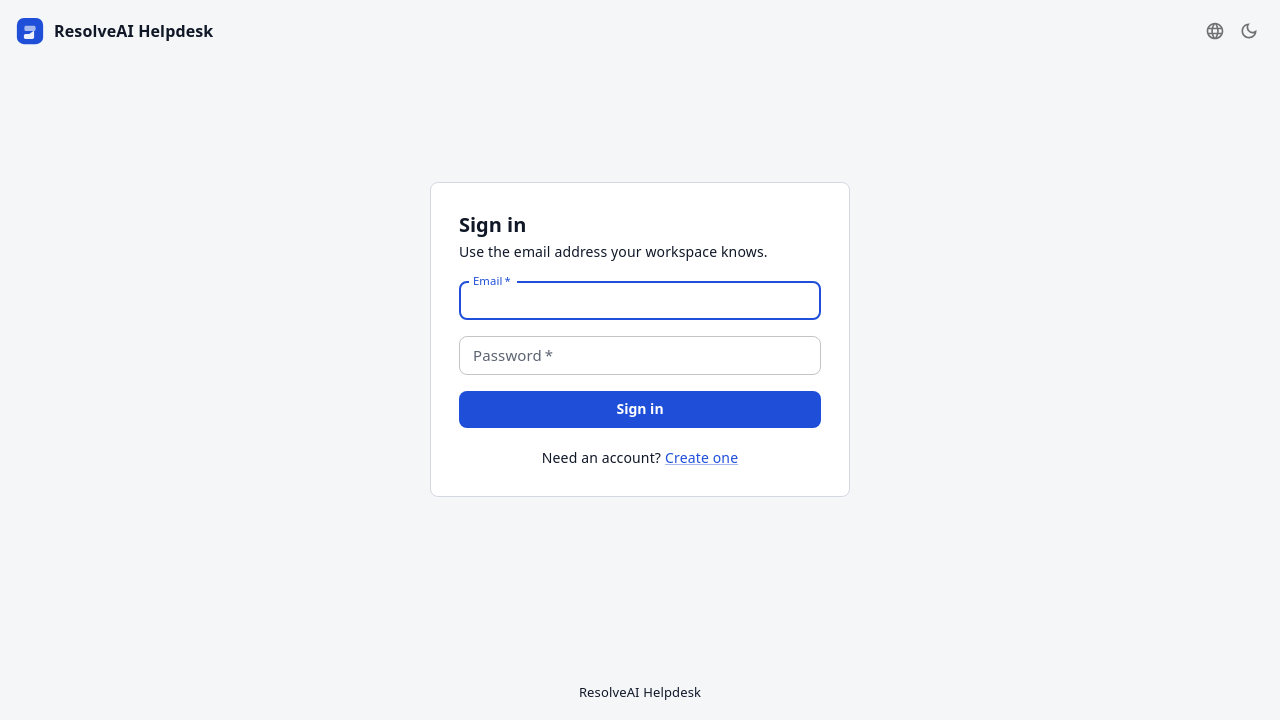
LoginPage › shows a form-level message when the credentials are refused
In the field labelled "Email *": (640, 301) [459,282,821,320], type "agent@example.com"
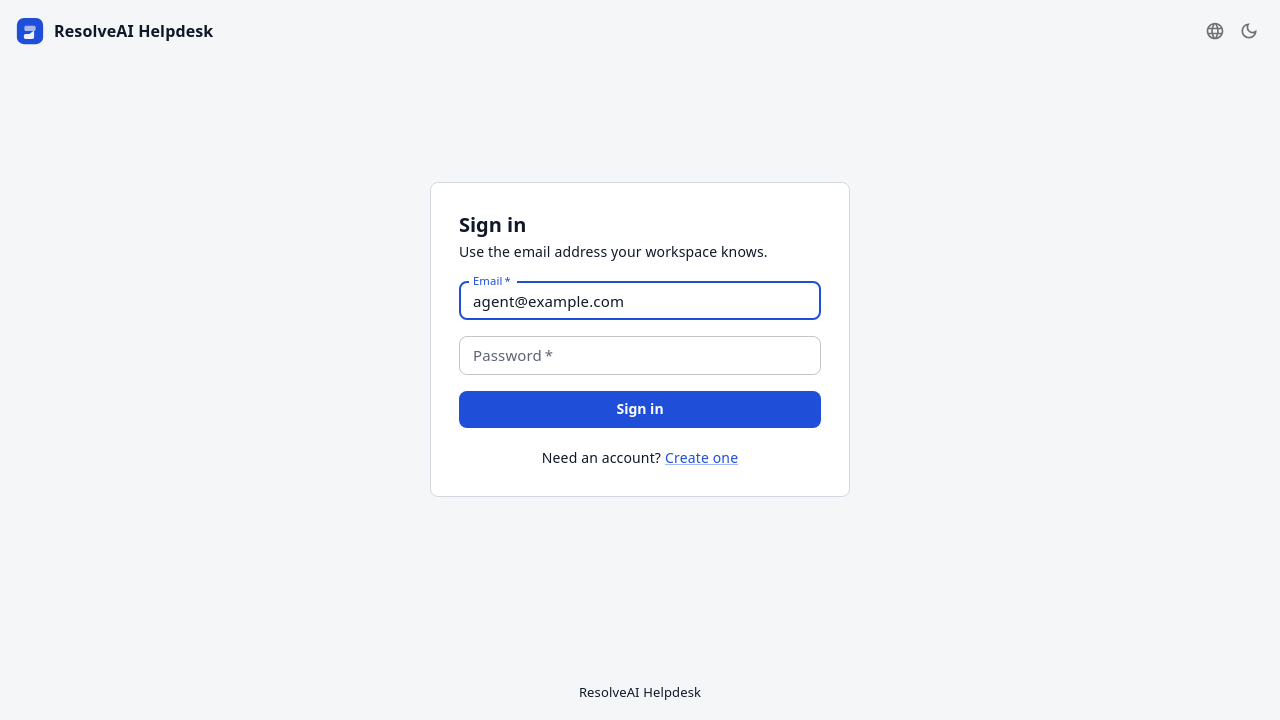
In the password field labelled "Password *": (640, 356) [459,336,821,375], type "wrong-password"
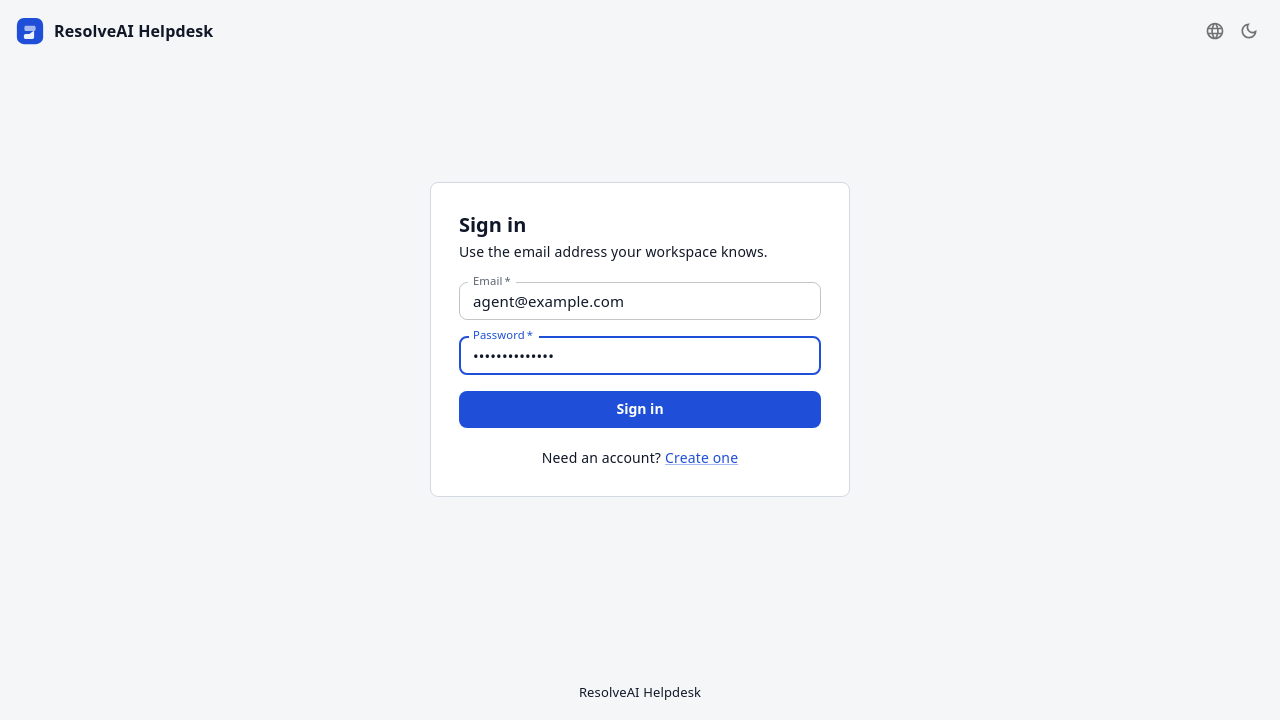
Click the button "Sign in": (640, 409) [459,391,821,428]
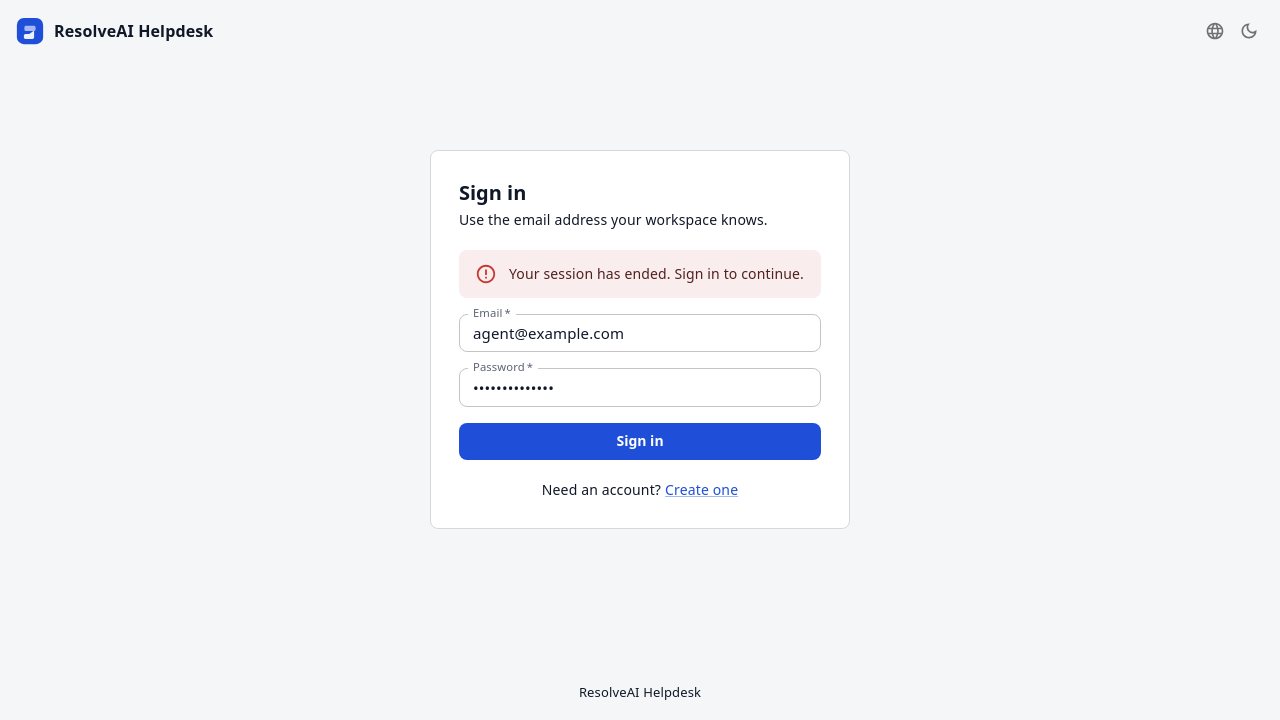
Expected: the message shows "session has ended", [509,264,804,283]
